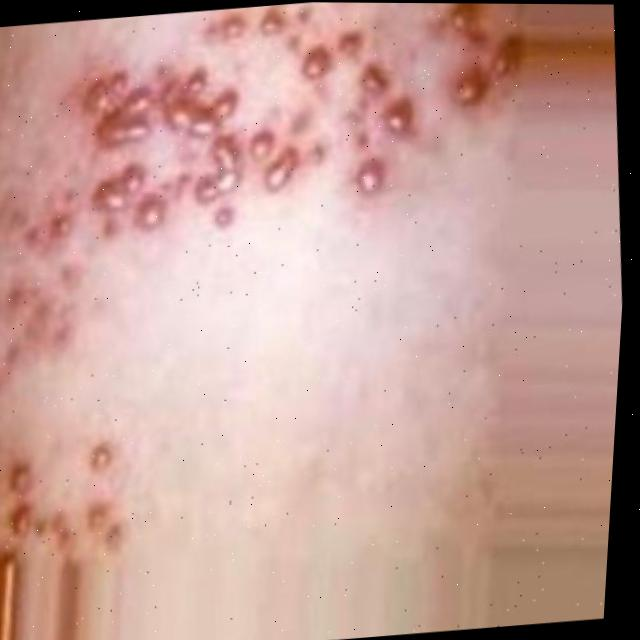Shingles: (0, 0, 561, 386), (0, 436, 136, 547)
